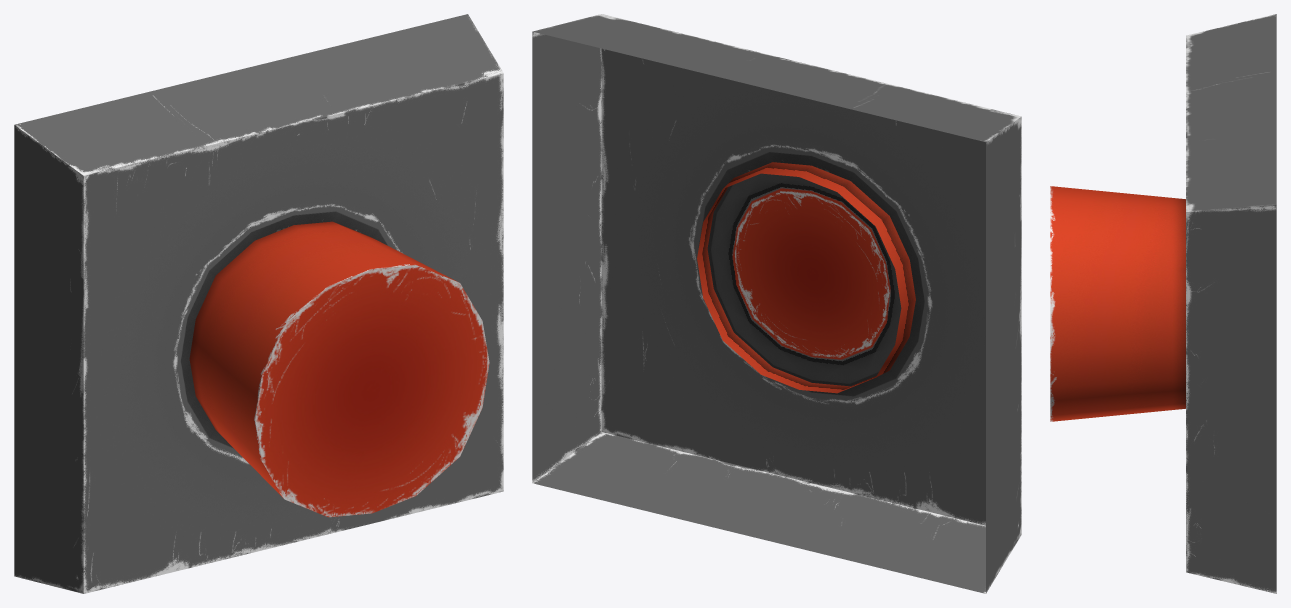
Rendered from Button_01.FBX.
3 views of the same model, side by side, from view 1: azimuth 30°, elevation 25°; view 2: azimuth 150°, elevation 25°; view 3: azimuth 270°, elevation 25° (orthographic). The views are drawn at different scales.
Parts seen in each view (by area): view 1: Button_01, Button_01_part; view 2: Button_01, Button_01_part; view 3: Button_01, Button_01_part.
Part boxes in pixels (<box>): Button_01: <box>14,14,503,593</box>; Button_01_part: <box>189,221,489,517</box>; Button_01: <box>532,14,1021,593</box>; Button_01_part: <box>697,162,915,393</box>; Button_01: <box>1186,14,1276,593</box>; Button_01_part: <box>1050,186,1185,421</box>.
Size of the model in its own units: 5.94 by 5.65 by 2.98.
Materials: 1 (1 with a texture image).
